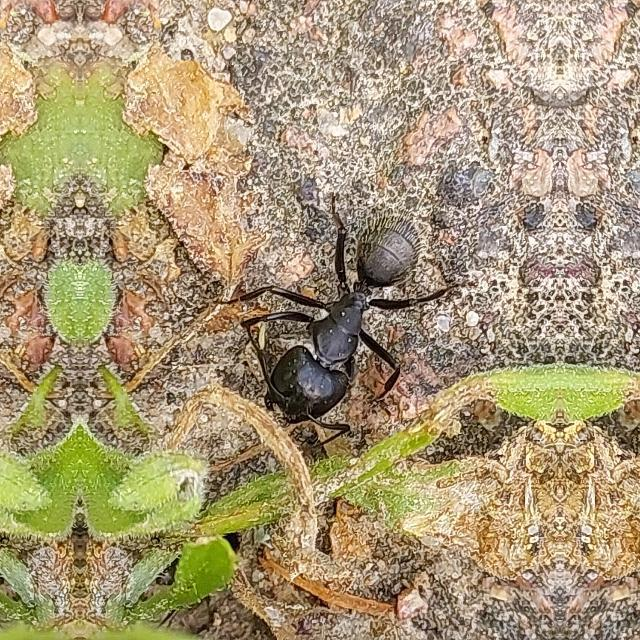Camponotus: (192, 174, 476, 462)
